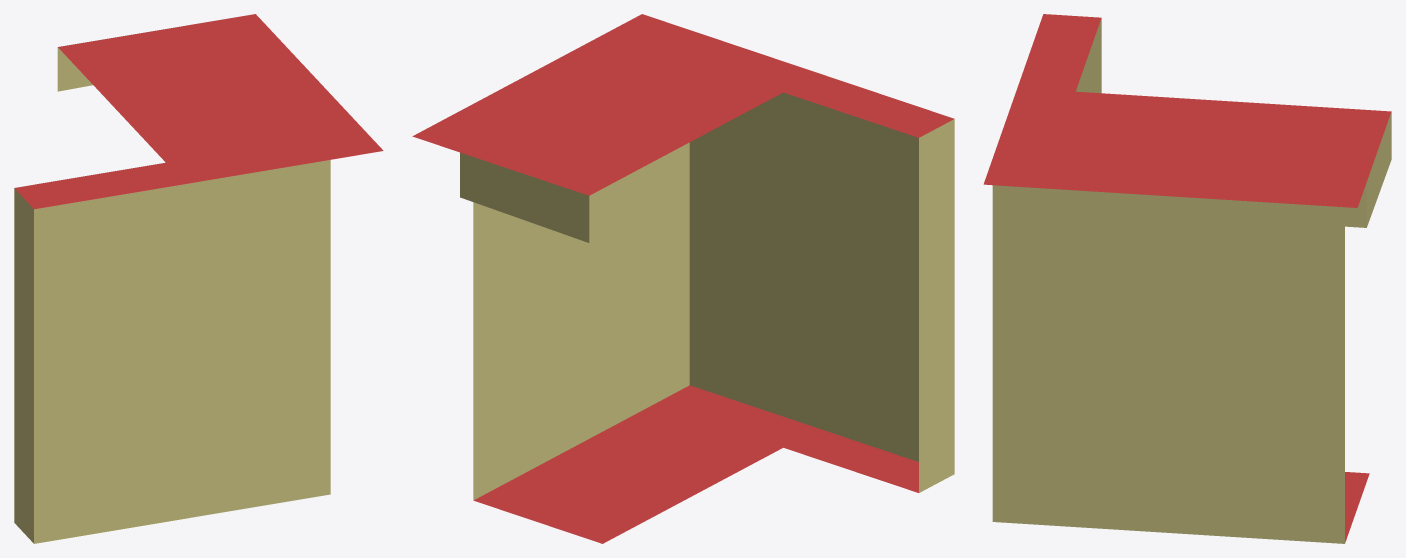
3 renders of one model, left to right at view 1: azimuth 30°, elevation 25°; view 2: azimuth 150°, elevation 25°; view 3: azimuth 270°, elevation 25°, orthographic. The views are drawn at different scales.
Size of the model in its own units: 7.41 by 6.58 by 6.47.
